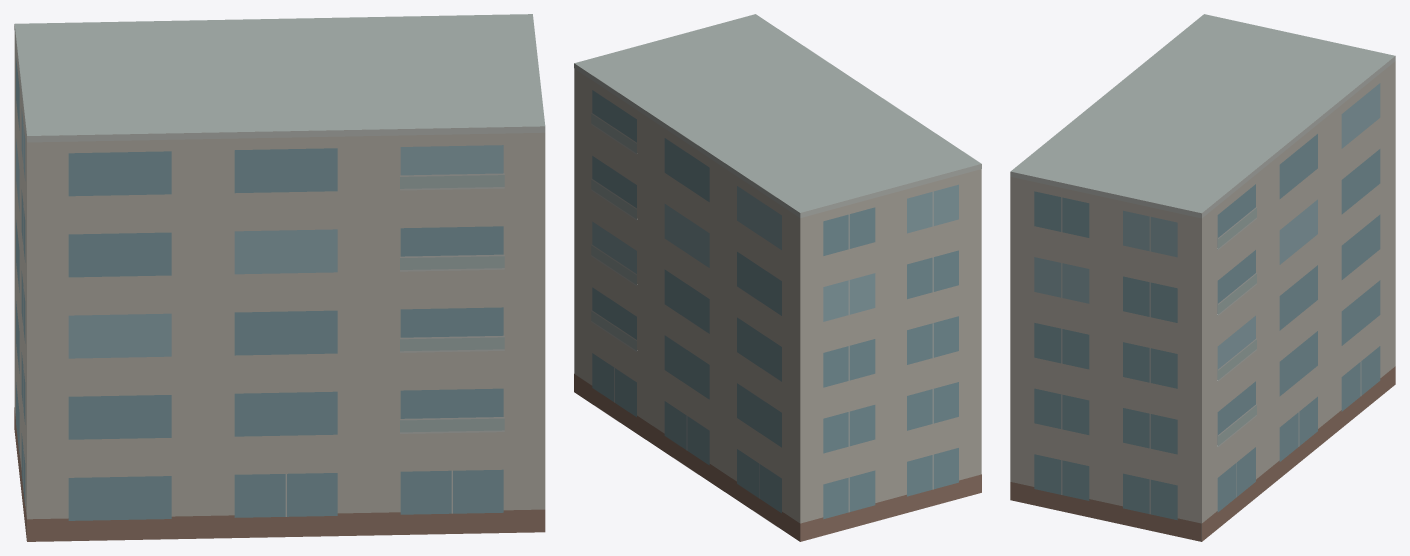
File: survey-upis-32680495.glb
3 renders of one model, left to right at view 1: azimuth 30°, elevation 25°; view 2: azimuth 150°, elevation 25°; view 3: azimuth 270°, elevation 25°, orthographic. The views are drawn at different scales.
Parts seen in each view (by area): view 1: survey-upis-32680495.tmp; view 2: survey-upis-32680495.tmp; view 3: survey-upis-32680495.tmp.
Part boxes in pixels (box(x1,y1,x2,y2)): survey-upis-32680495.tmp: box(14, 14, 545, 541); survey-upis-32680495.tmp: box(574, 14, 981, 541); survey-upis-32680495.tmp: box(1010, 14, 1395, 541).
Bounding box in the file's own units: 20.17 × 15.5 × 16.48.
